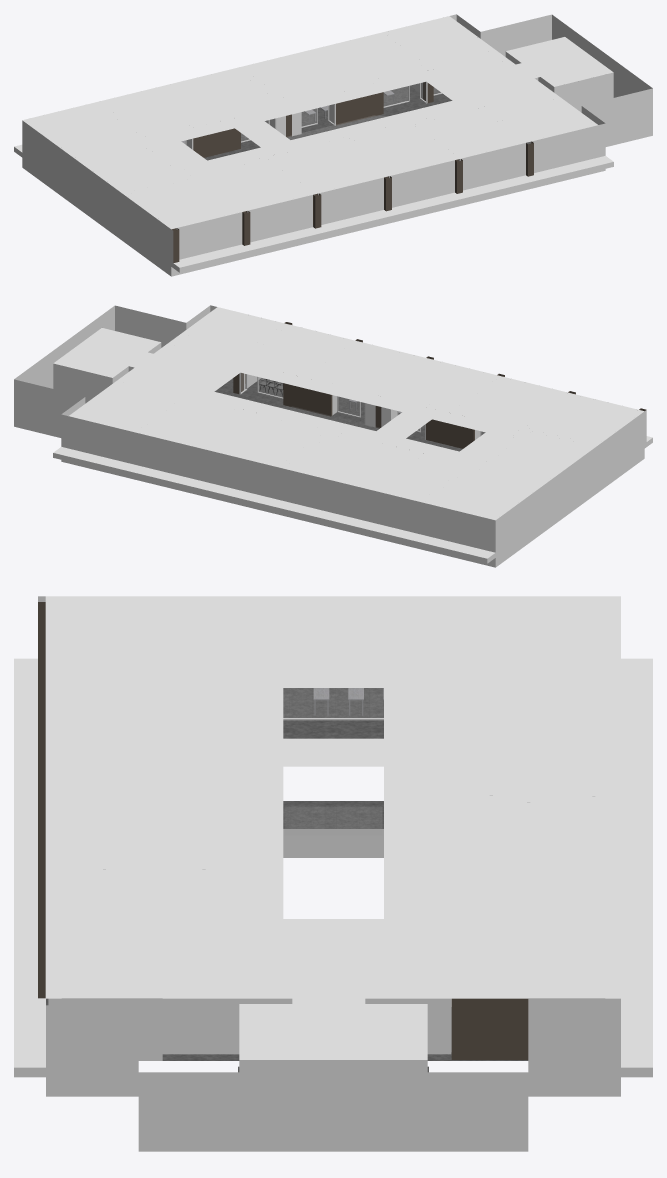
File: EISCSecondFloor.glb
3 views of the same model, one above another, from view 1: azimuth 30°, elevation 25°; view 2: azimuth 150°, elevation 25°; view 3: azimuth 270°, elevation 25° (orthographic). The views are drawn at different scales.
Visible parts, largest first — view 1: TopSecondFloor, StructureSecondFloor, SecondFloor, DoorComputerRoom1R, DoorComputerRoom1L; view 2: TopSecondFloor, StructureSecondFloor, SecondFloor, Door2002, DoorComputerRoom5L; view 3: TopSecondFloor, StructureSecondFloor, SecondFloor.
Boxes of the visible parts, bbox=[...] form: TopSecondFloor: bbox=[22, 16, 613, 229]; StructureSecondFloor: bbox=[14, 14, 652, 276]; SecondFloor: bbox=[204, 86, 452, 226]; DoorComputerRoom1R: bbox=[383, 81, 427, 107]; DoorComputerRoom1L: bbox=[301, 104, 335, 127]; TopSecondFloor: bbox=[53, 307, 644, 520]; StructureSecondFloor: bbox=[14, 305, 652, 567]; SecondFloor: bbox=[214, 378, 485, 451]; Door2002: bbox=[239, 372, 283, 398]; DoorComputerRoom5L: bbox=[337, 396, 365, 424]; TopSecondFloor: bbox=[45, 596, 621, 1059]; StructureSecondFloor: bbox=[14, 596, 652, 1151]; SecondFloor: bbox=[46, 688, 528, 1072].
Bounding box in the file's own units: 42.5 × 3.8 × 24.1.
Materials: 11 (3 with a texture image).
